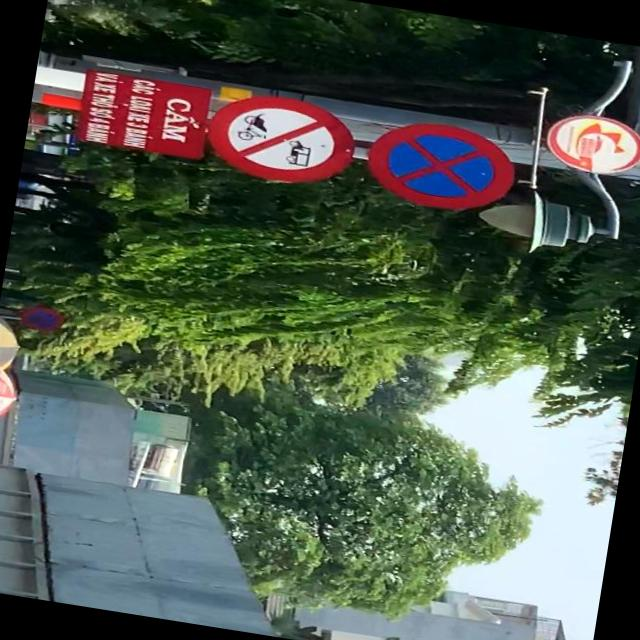P-130: (362, 114, 521, 216)
